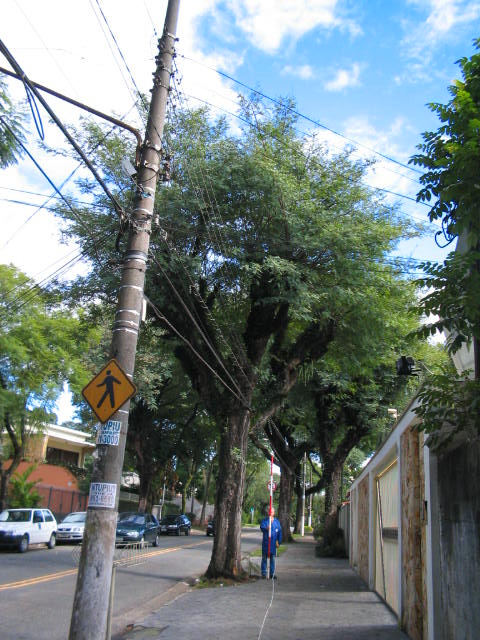crown: (58, 96, 412, 421)
stem: (197, 424, 258, 577)
stick: (263, 456, 278, 579)
tree: (53, 93, 416, 580)
